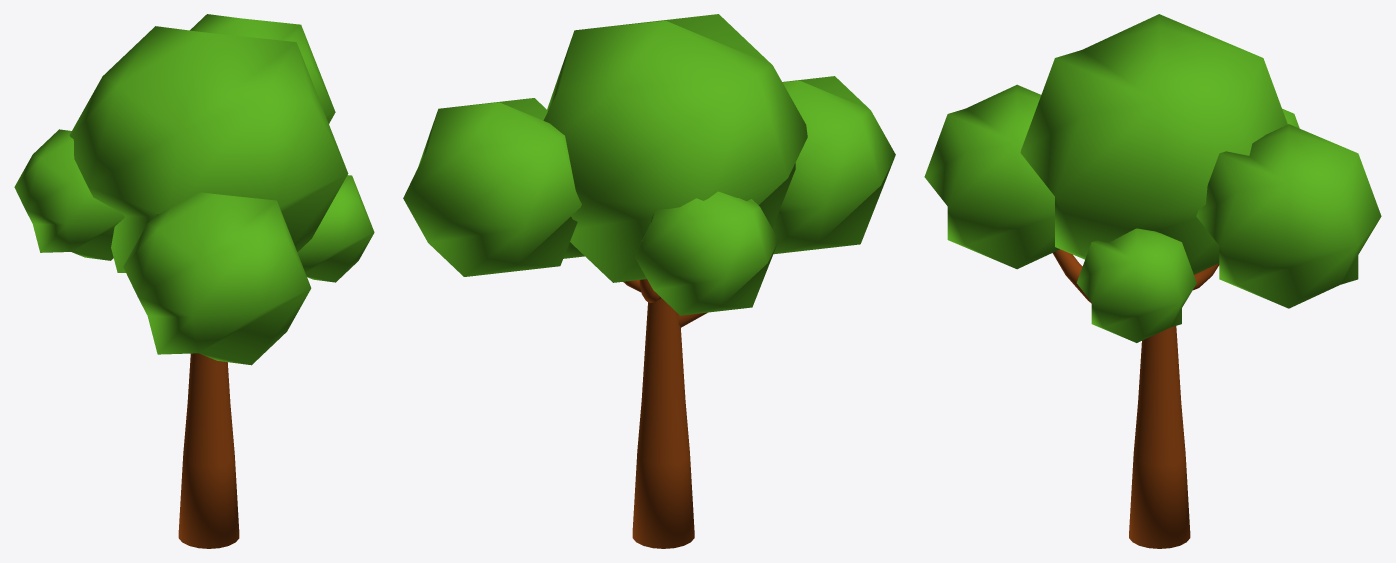
The model's file is arvorelowpoly.obj.
The picture shows the model from 3 angles, left to right: view 1: azimuth 30°, elevation 25°; view 2: azimuth 150°, elevation 25°; view 3: azimuth 270°, elevation 25°; orthographic projection. The views are drawn at different scales.
Visible parts, largest first — view 1: Box009, Box010, Cylinder006, Box008, Box007, Box011; view 2: Box009, Box011, Box010, Box008, Cylinder006; view 3: Box009, Box011, Box010, Cylinder006, Box007, Cylinder007.
Boxes of the visible parts, <box> form: Box009: <box>69,26,348,272</box>; Box010: <box>123,192,311,365</box>; Cylinder006: <box>178,353,239,548</box>; Box008: <box>14,129,124,260</box>; Box007: <box>297,175,374,282</box>; Box011: <box>190,14,335,123</box>; Box009: <box>543,14,807,282</box>; Box011: <box>403,98,581,276</box>; Box010: <box>772,76,895,254</box>; Box008: <box>634,191,778,315</box>; Cylinder006: <box>632,298,694,548</box>; Box009: <box>1020,14,1287,274</box>; Box011: <box>1196,124,1381,308</box>; Box010: <box>924,84,1059,269</box>; Cylinder006: <box>1129,326,1190,548</box>; Box007: <box>1076,228,1196,342</box>; Cylinder007: <box>1052,249,1091,303</box>.
Bounding box in the file's own units: 4.01 × 6.05 × 4.93.
